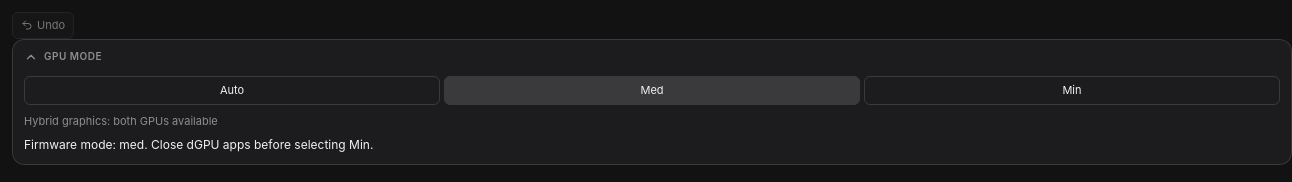
Test: names the last change and re-applies the previous value through the same command
The width and height of the screenshot is (1292, 182).
Click the button "Min". click: (1072, 90)
box: [864,76,1280,104]
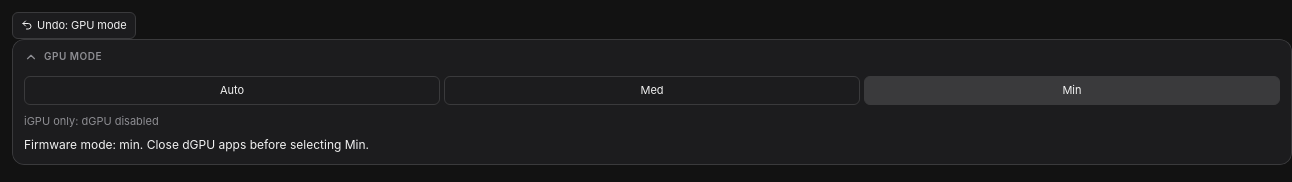
Expected: the button "Undo: GPU mode" is enabled
Click the button "Undo: GPU mode". click: (74, 25)
box: [12,12,136,39]
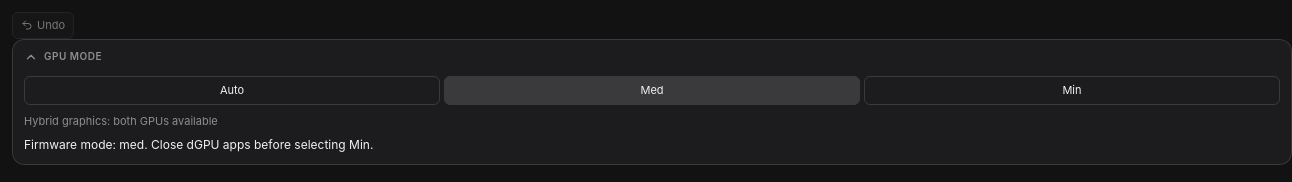
Expected: the button "Undo" is disabled, [12,12,74,39]
